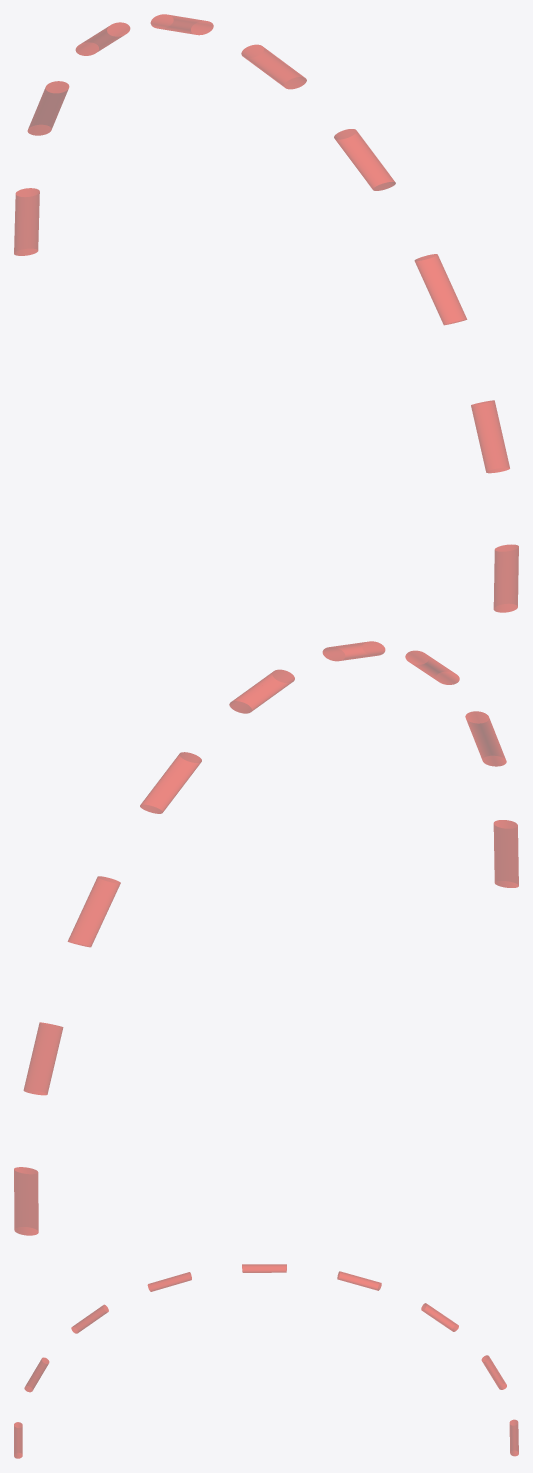
The model's file is arc2.glb.
3 views of the same model, one above another, from view 1: azimuth 30°, elevation 25°; view 2: azimuth 150°, elevation 25°; view 3: azimuth 270°, elevation 25° (orthographic). The views are drawn at different scales.
Visible parts, largest first — view 1: Cylinder; view 2: Cylinder; view 3: Cylinder.
Boxes of the visible parts, x1=… form: Cylinder: x1=14, y1=14, x2=518, y2=612; Cylinder: x1=14, y1=641, x2=518, y2=1235; Cylinder: x1=14, y1=1264, x2=518, y2=1458.
Bounding box in the file's own units: 0.0841 × 1.03 × 2.45.
